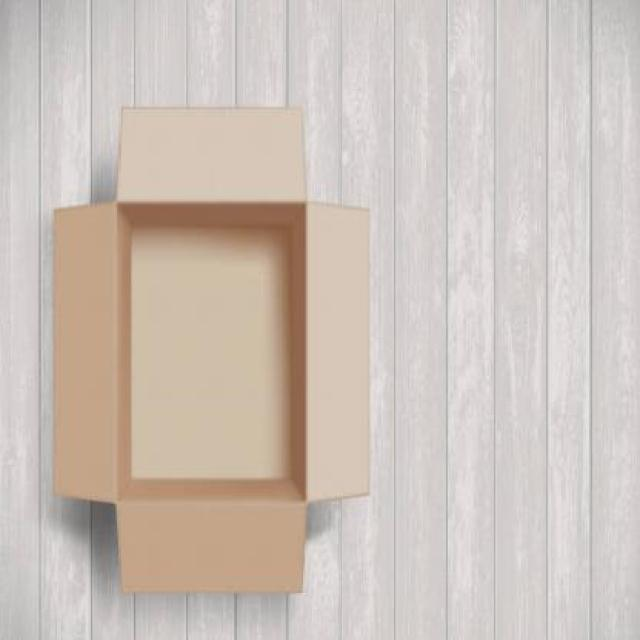box: (40, 80, 397, 636)
